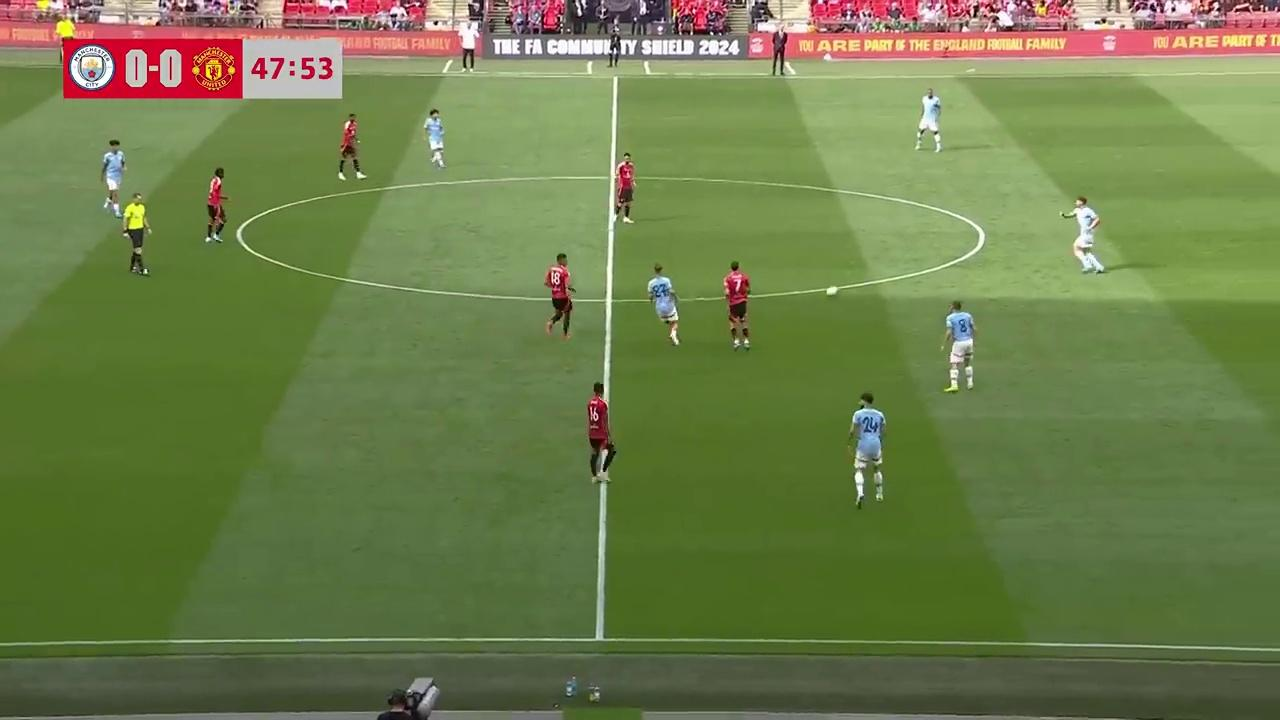ball: (824, 281, 839, 298)
player: (847, 392, 886, 508), (939, 301, 977, 392), (1061, 195, 1104, 274), (585, 382, 616, 485), (647, 264, 681, 347), (543, 252, 575, 340), (723, 261, 750, 352), (101, 139, 127, 215), (337, 113, 365, 181), (204, 167, 229, 243), (914, 88, 943, 152), (614, 152, 636, 225), (423, 108, 445, 170)
referee: (121, 191, 152, 276)
